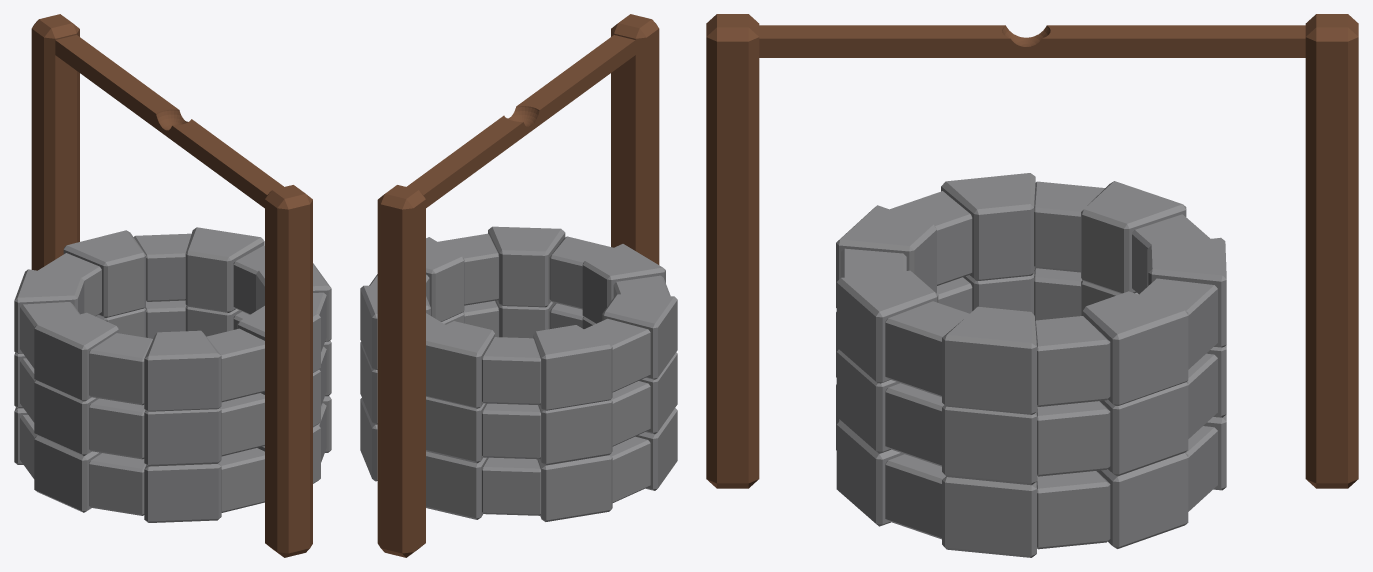
File: sumur.fbx
3 renders of one model, left to right at view 1: azimuth 30°, elevation 25°; view 2: azimuth 150°, elevation 25°; view 3: azimuth 270°, elevation 25°, orthographic. The views are drawn at different scales.
Visible parts, largest first — view 1: Cube.002, Cube; view 2: Cube.002, Cube; view 3: Cube.002, Cube.
Boxes of the visible parts, x1,y1,x2,y2 form: Cube.002: [14, 227, 331, 522]; Cube: [31, 14, 312, 557]; Cube.002: [360, 226, 677, 521]; Cube: [377, 14, 659, 557]; Cube.002: [836, 173, 1226, 557]; Cube: [706, 14, 1358, 488].
Bounding box in the file's own units: 390 × 482 × 618.
